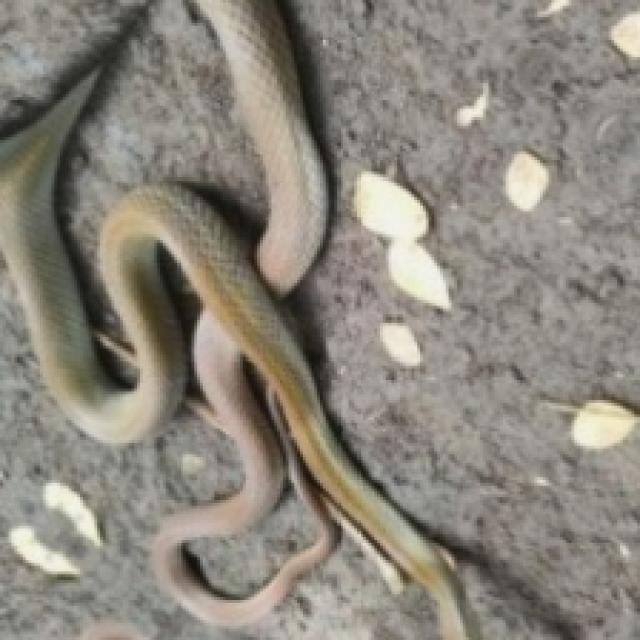reddish rat snake: (0, 0, 477, 637)
